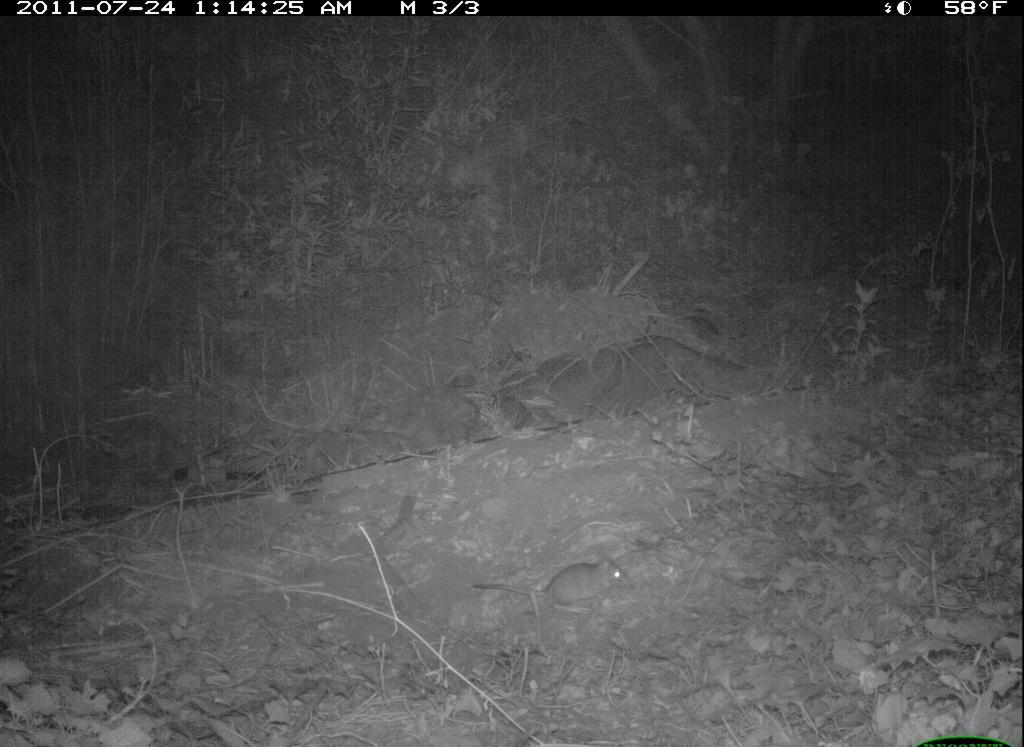rodent: (491, 545, 643, 617)
